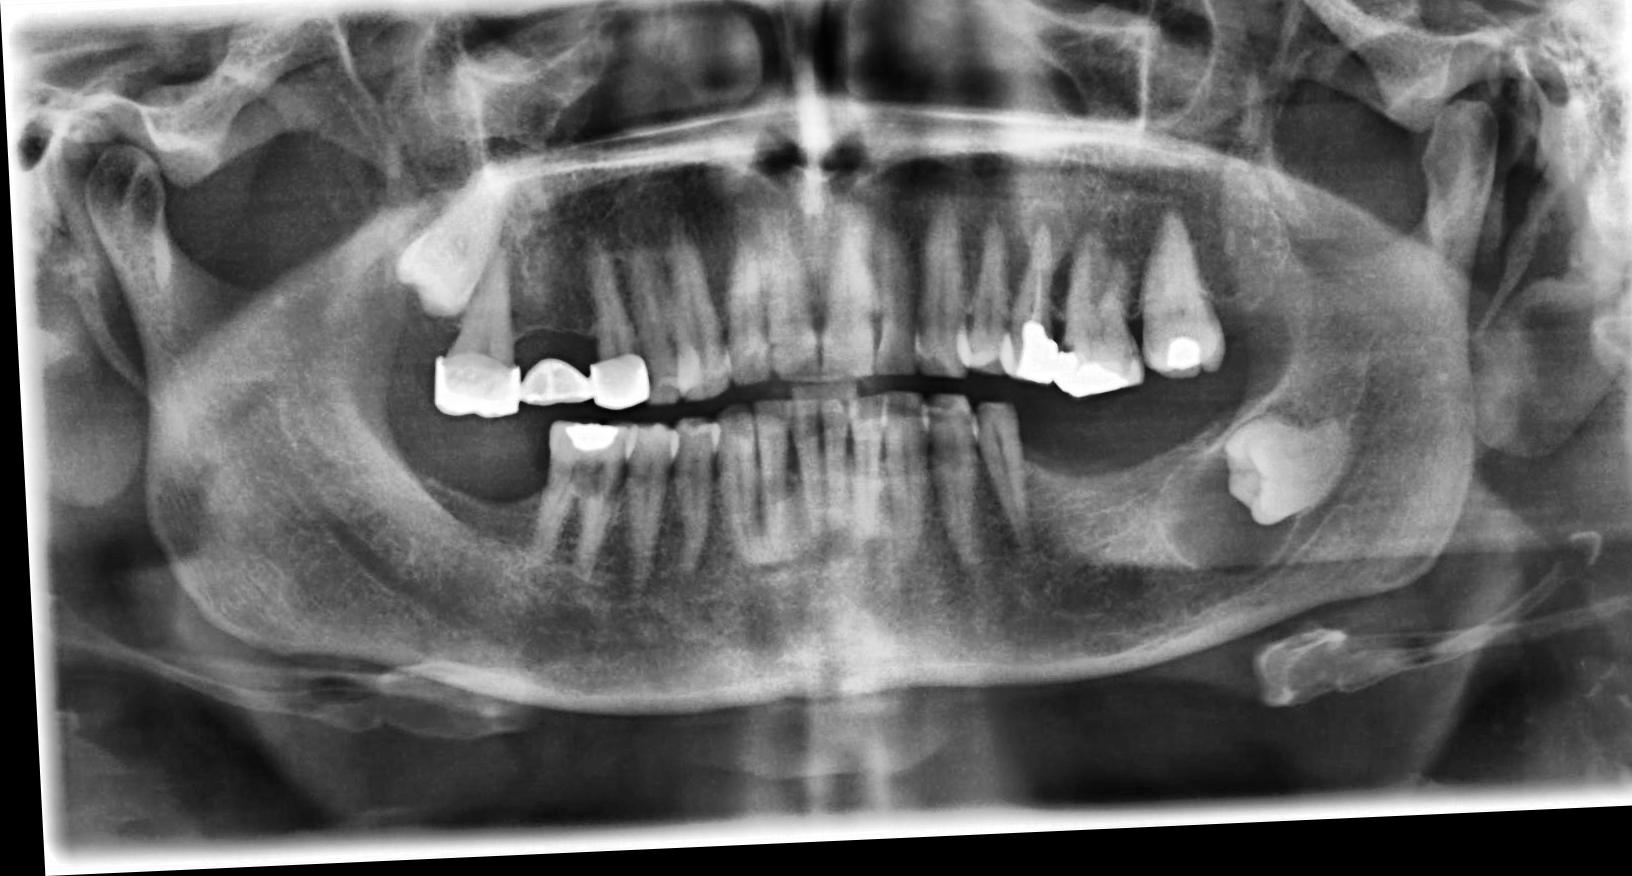keratokist: (1142, 428, 1297, 597)
radikuler: (1024, 213, 1069, 278)
